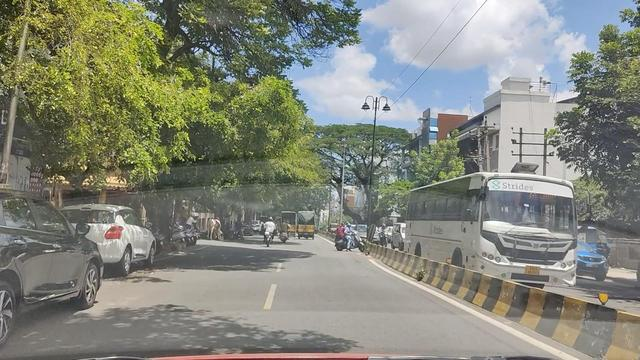LMV: (259, 214, 306, 261), (340, 224, 364, 254)
